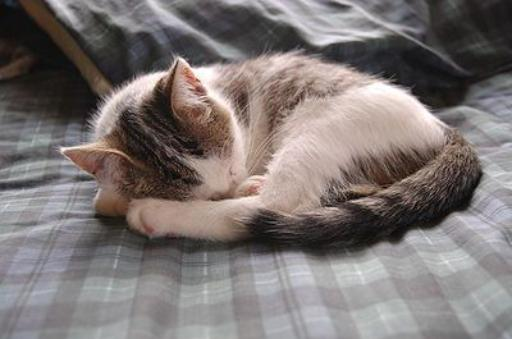cat_sleeping: (61, 52, 480, 244)
